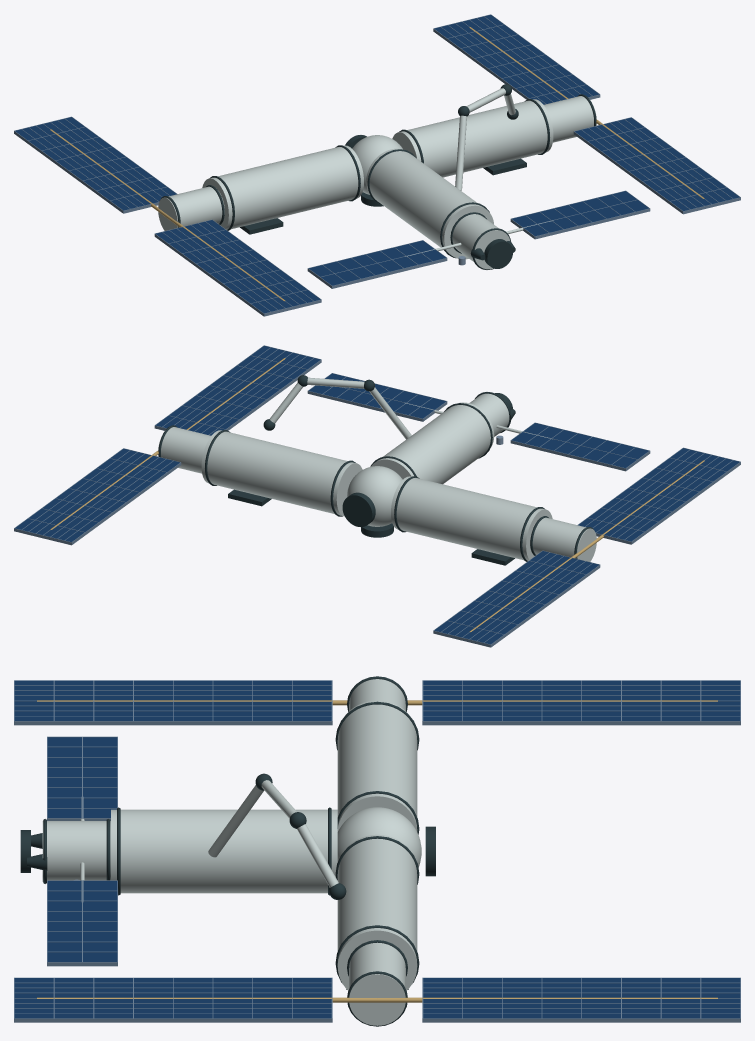
Rendered from tiangong.glb.
3 views of the same model, one above another, from view 1: azimuth 30°, elevation 25°; view 2: azimuth 150°, elevation 25°; view 3: azimuth 270°, elevation 25° (orthographic). The views are drawn at different scales.
Parts seen in each view (by area): view 1: laboratory-flexible-solar-wing (×4), solar, Wentian-laboratory, Mengtian-laboratory, Tianhe-large-diameter-section, Tianhe-original-solar-wing-2022 (×2), Wentian-airlock-resource-end, Mengtian-cargo-airlock-end, Tianhe-resource-section, frame, instruments, Tianhe-node (+2 smaller); view 2: laboratory-flexible-solar-wing (×4), solar, Mengtian-laboratory, Wentian-laboratory, Tianhe-large-diameter-section, Tianhe-original-solar-wing-2022 (×2), Wentian-airlock-resource-end, Tianhe-node, frame, Mengtian-cargo-airlock-end, instruments, forward-docking-port (+1 smaller); view 3: laboratory-flexible-solar-wing (×4), solar, Tianhe-large-diameter-section, Tianhe-original-solar-wing-2022 (×2), Mengtian-laboratory, Wentian-laboratory, Mengtian-cargo-airlock-end, Tianhe-resource-section, frame, instruments, Tianhe-node, Wentian-airlock-resource-end (+1 smaller).
Part boxes in pixels (box(x1,y1,x2,y2)): laboratory-flexible-solar-wing (×4): box(15, 15, 739, 313); solar: box(14, 14, 740, 316); Wentian-laboratory: box(202, 145, 363, 229); Mengtian-laboratory: box(392, 99, 553, 177); Tianhe-large-diameter-section: box(366, 148, 493, 259); Tianhe-original-solar-wing-2022 (×2): box(309, 191, 648, 285); Wentian-airlock-resource-end: box(158, 186, 224, 230); Mengtian-cargo-airlock-end: box(544, 96, 596, 142); Tianhe-resource-section: box(452, 214, 510, 269); frame: box(455, 84, 518, 190); instruments: box(161, 94, 596, 230); Tianhe-node: box(352, 135, 402, 194); laboratory-flexible-solar-wing (×4): box(15, 346, 739, 644); solar: box(14, 345, 740, 647); Mengtian-laboratory: box(201, 430, 362, 516); Wentian-laboratory: box(391, 476, 552, 560); Tianhe-large-diameter-section: box(370, 402, 494, 484); Tianhe-original-solar-wing-2022 (×2): box(309, 373, 648, 467); Wentian-airlock-resource-end: box(530, 517, 596, 561); Tianhe-node: box(347, 466, 402, 526); frame: box(263, 375, 411, 439); Mengtian-cargo-airlock-end: box(158, 427, 210, 473); instruments: box(158, 425, 593, 561); forward-docking-port: box(342, 492, 375, 526); laboratory-flexible-solar-wing (×4): box(14, 680, 740, 1018); solar: box(14, 680, 740, 1022); Tianhe-large-diameter-section: box(111, 809, 337, 893); Tianhe-original-solar-wing-2022 (×2): box(47, 737, 117, 961); Mengtian-laboratory: box(337, 834, 417, 990); Wentian-laboratory: box(337, 700, 417, 831); Mengtian-cargo-airlock-end: box(349, 942, 405, 1025); Tianhe-resource-section: box(42, 821, 110, 881); frame: box(208, 773, 346, 899); instruments: box(335, 676, 419, 1026); Tianhe-node: box(337, 807, 421, 867); Wentian-airlock-resource-end: box(349, 679, 405, 710).
Bounding box in the file's own units: 7.06 × 1.56 × 6.41.
